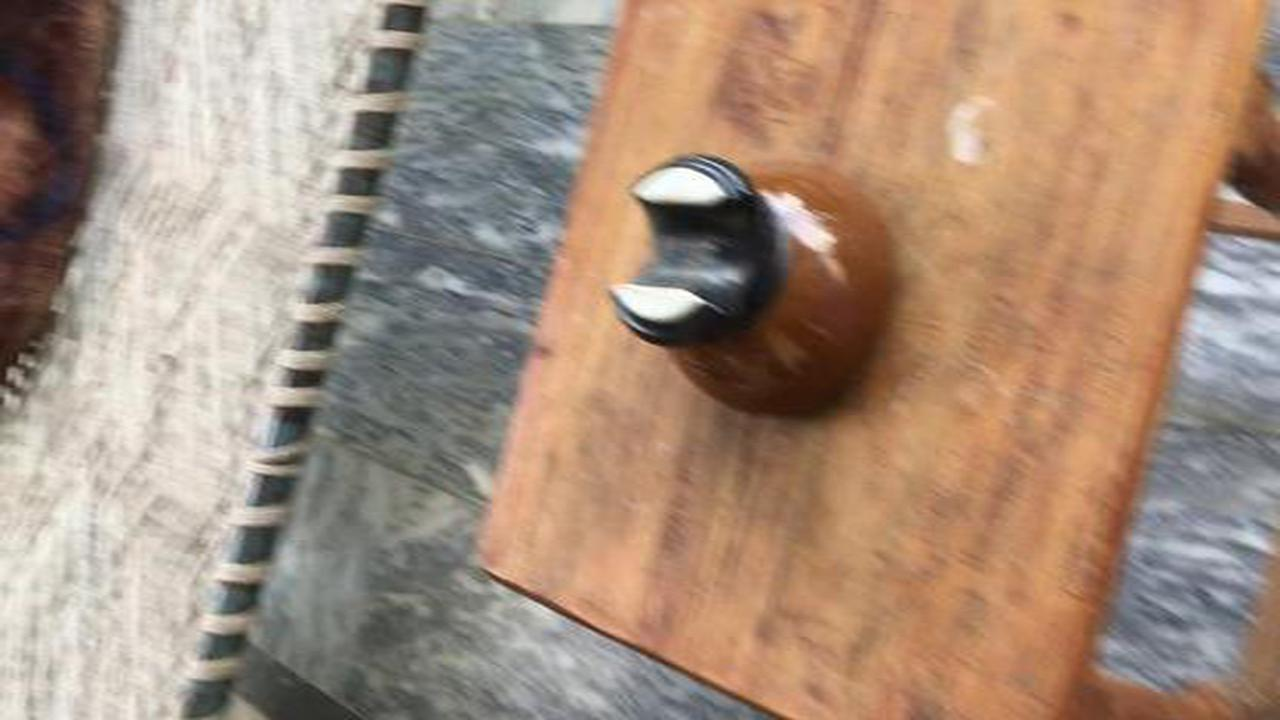insulator_pin: (594, 137, 927, 437)
